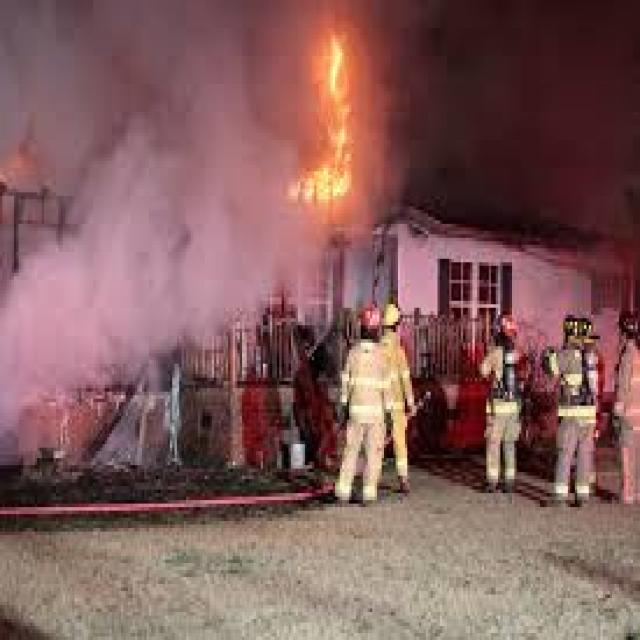fire: (325, 37, 353, 162), (288, 165, 352, 205)
